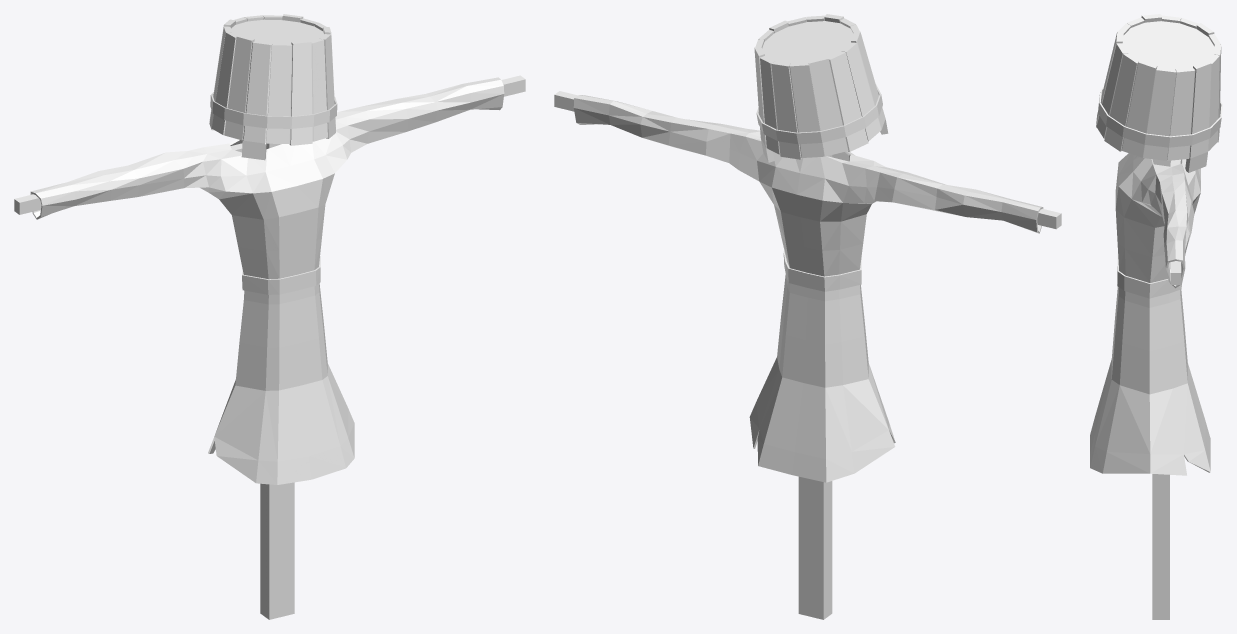
Rendered from Prop_Scarecrow_04.glb.
3 renders of one model, left to right at view 1: azimuth 30°, elevation 25°; view 2: azimuth 150°, elevation 25°; view 3: azimuth 270°, elevation 25°, orthographic.
Parts seen in each view (by area): view 1: Prop_Scarecrow_04; view 2: Prop_Scarecrow_04; view 3: Prop_Scarecrow_04.
Boxes of the visible parts, <box> form: Prop_Scarecrow_04: <box>14,14,525,619</box>; Prop_Scarecrow_04: <box>554,14,1061,619</box>; Prop_Scarecrow_04: <box>1090,14,1222,619</box>.
Bounding box in the file's own units: 1.92 × 2.14 × 0.4431.
Materials: 1 (1 with a texture image).
